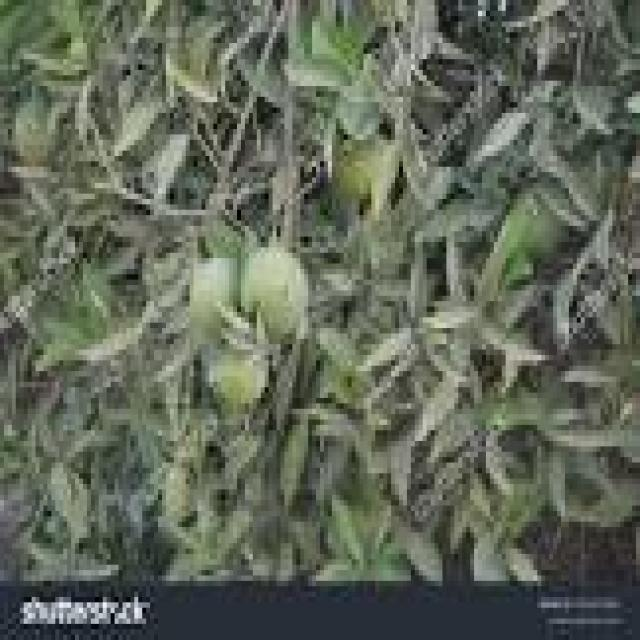orange: (241, 242, 308, 333), (332, 140, 395, 210), (190, 258, 233, 333)
